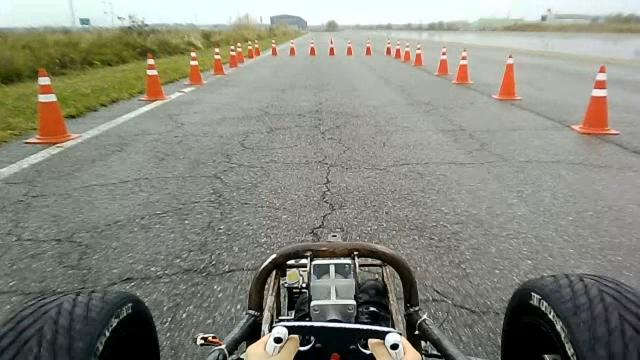red cone: (23, 68, 81, 145), (570, 64, 620, 135), (137, 52, 169, 102), (491, 52, 523, 100), (452, 47, 474, 85), (182, 48, 204, 86), (210, 43, 227, 75), (434, 44, 450, 77), (413, 42, 424, 66), (228, 44, 239, 68), (401, 40, 411, 63), (236, 41, 246, 63)
